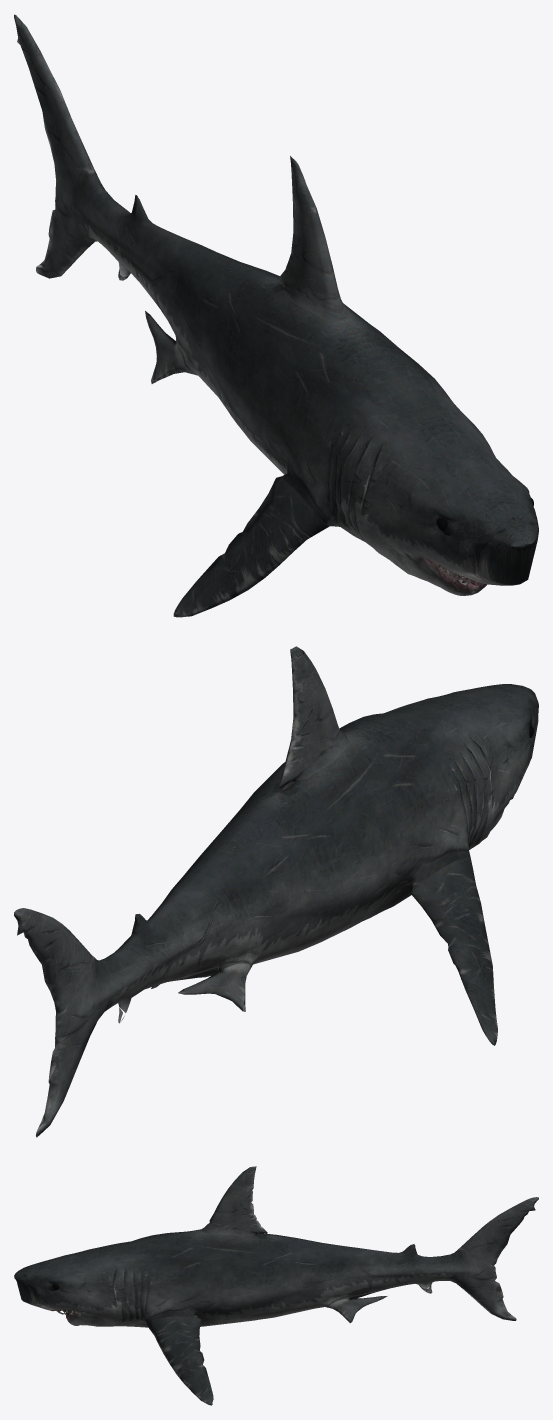
Rendered from shark_hirst_pose.glb.
3 renders of one model, top to bottom at view 1: azimuth 30°, elevation 25°; view 2: azimuth 150°, elevation 25°; view 3: azimuth 270°, elevation 25°, orthographic. The views are drawn at different scales.
Visible parts, largest first — view 1: Object_3; view 2: Object_3; view 3: Object_3.
Part boxes in pixels (x1=…): Object_3: x1=14, y1=14, x2=538, y2=617; Object_3: x1=14, y1=646, x2=538, y2=1137; Object_3: x1=14, y1=1166, x2=538, y2=1405.
Bounding box in the file's own units: 4.45 × 5.16 × 12.32.
3 materials, 3 textured.
